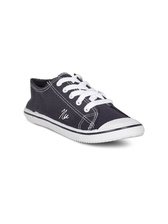shoes: (20, 63, 145, 144)
